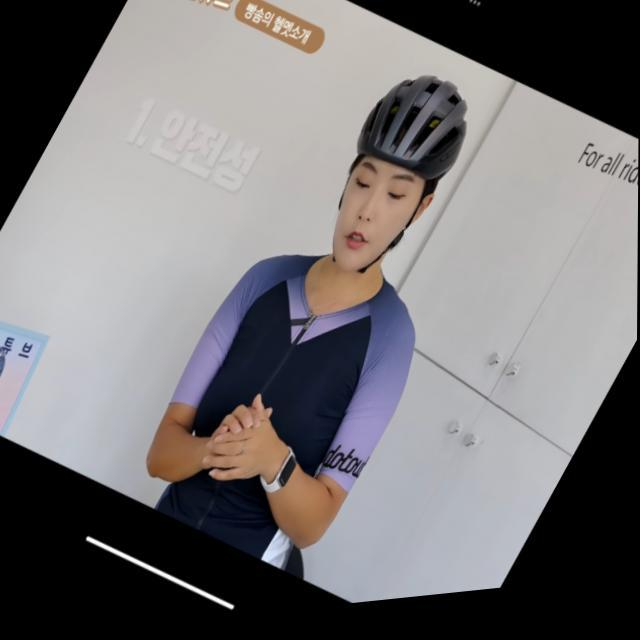Helmet: (327, 72, 471, 275)
